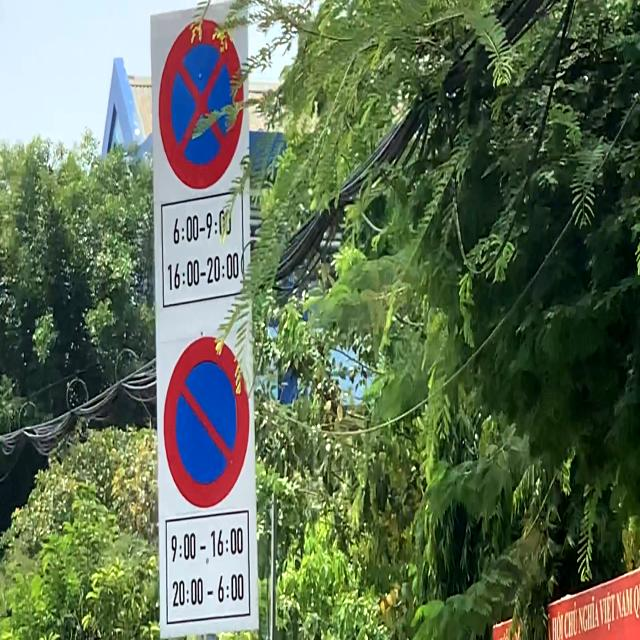P.130: (158, 16, 244, 190)
P.131a: (163, 334, 251, 510)
